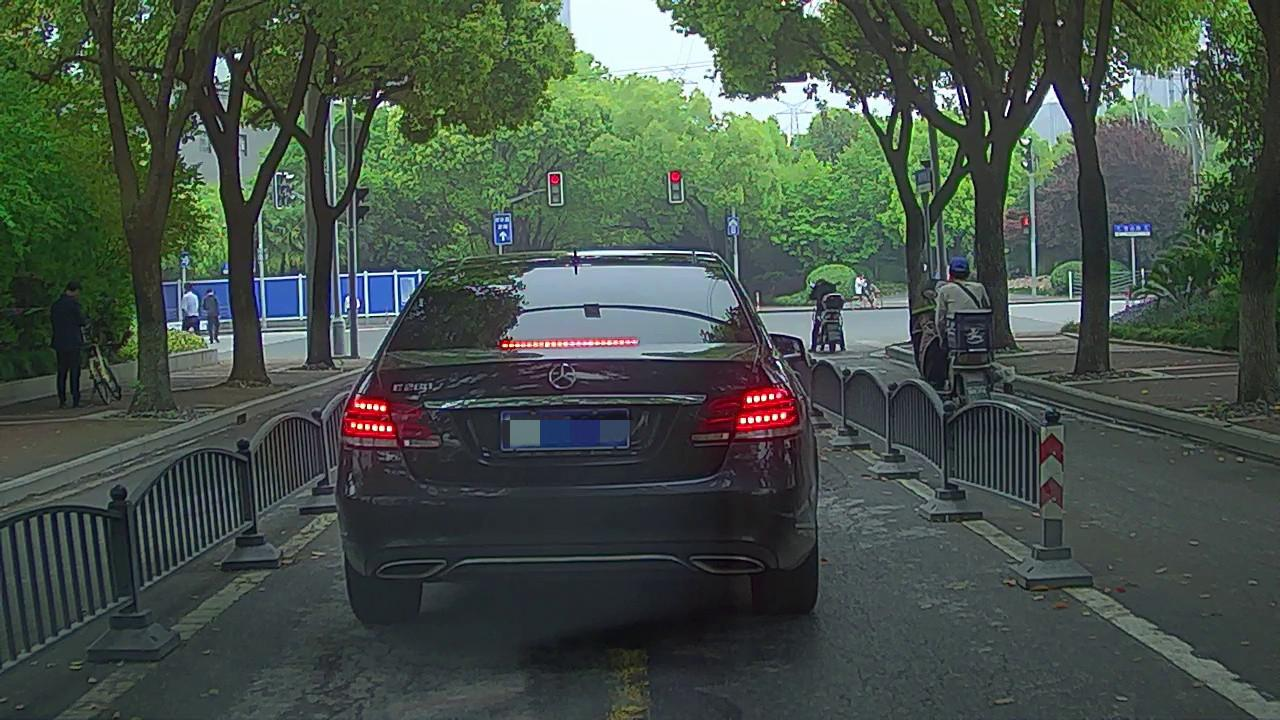traffic_light: (668, 169, 682, 202), (549, 174, 561, 205)
